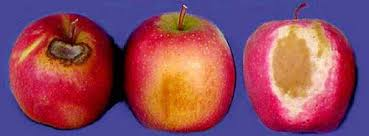apple: (122, 13, 234, 129)
damaged_apple: (247, 21, 355, 129), (13, 18, 119, 127)
